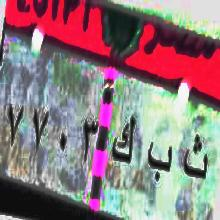0: (57, 127, 69, 160)
3: (82, 112, 98, 169)
7: (29, 105, 49, 152), (6, 98, 24, 150)
baa: (147, 136, 173, 187)
kaaf: (112, 108, 137, 174)
thaa: (181, 129, 209, 185)
